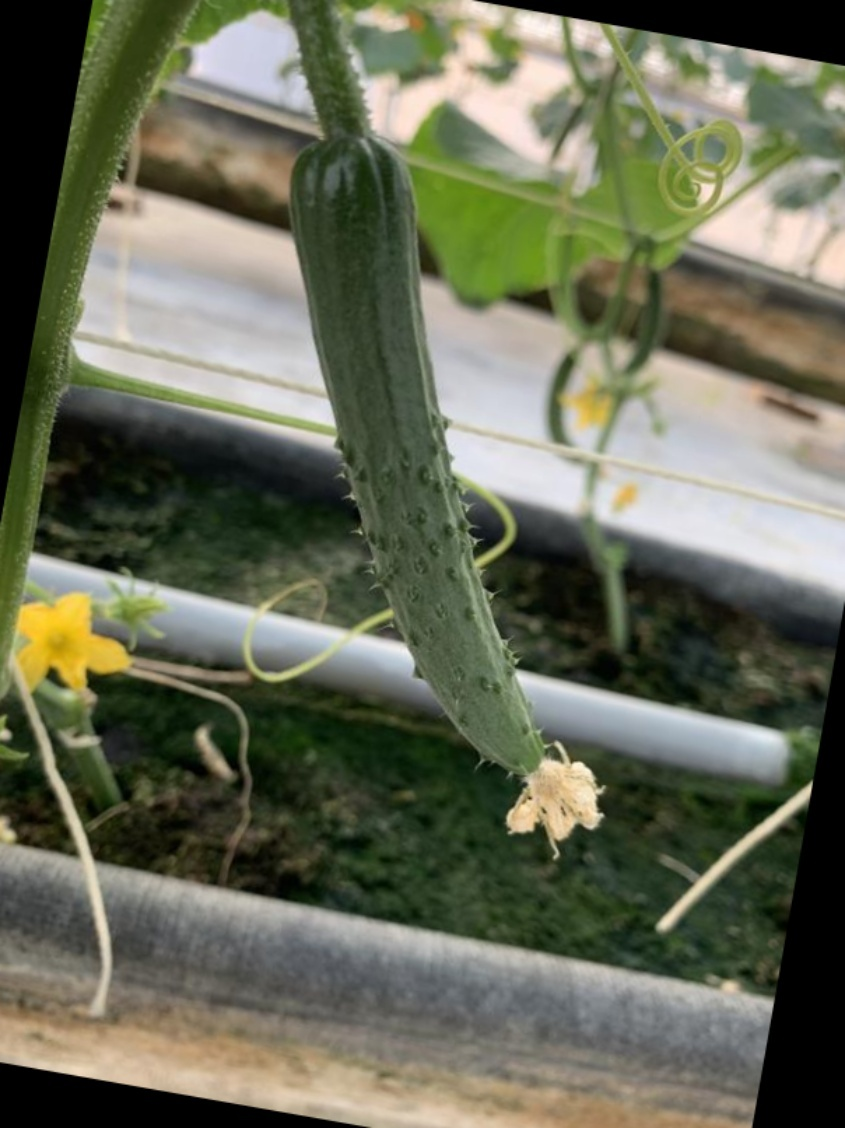growth: (202, 86, 669, 853)
